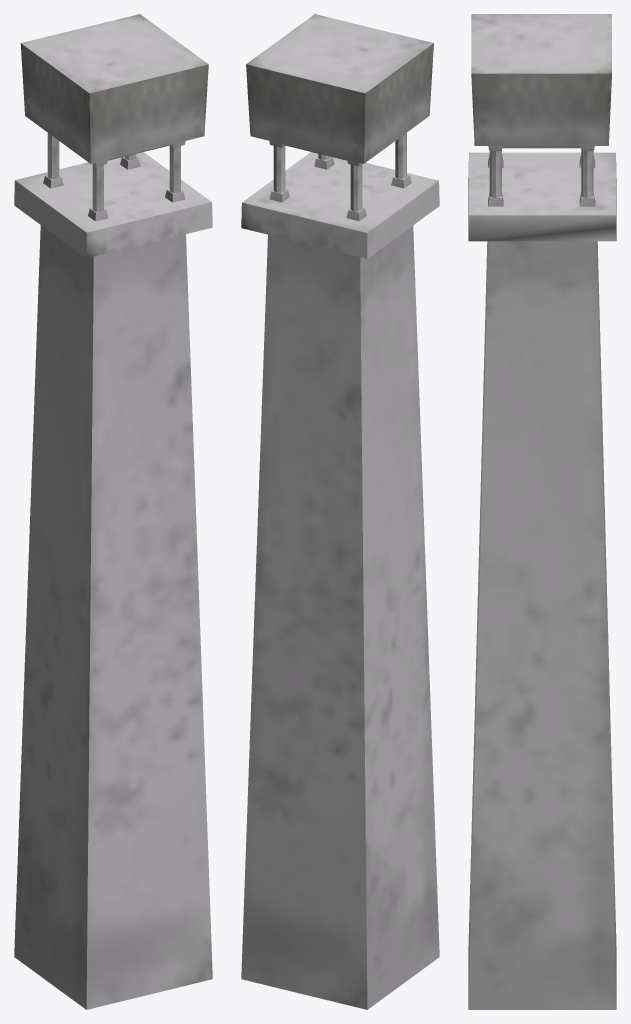
Rendered from general_obj_stonepillar_02.glb.
3 renders of one model, left to right at view 1: azimuth 30°, elevation 25°; view 2: azimuth 150°, elevation 25°; view 3: azimuth 270°, elevation 25°, orthographic. The views are drawn at different scales.
Parts seen in each view (by area): view 1: Object08; view 2: Object08; view 3: Object08.
Part boxes in pixels (bbox=[...]): Object08: bbox=[14, 14, 212, 1009]; Object08: bbox=[241, 14, 439, 1009]; Object08: bbox=[468, 14, 616, 1009].
Size of the model in its own units: 0.8048 by 5.57 by 0.7989.
1 material, 1 textured.
